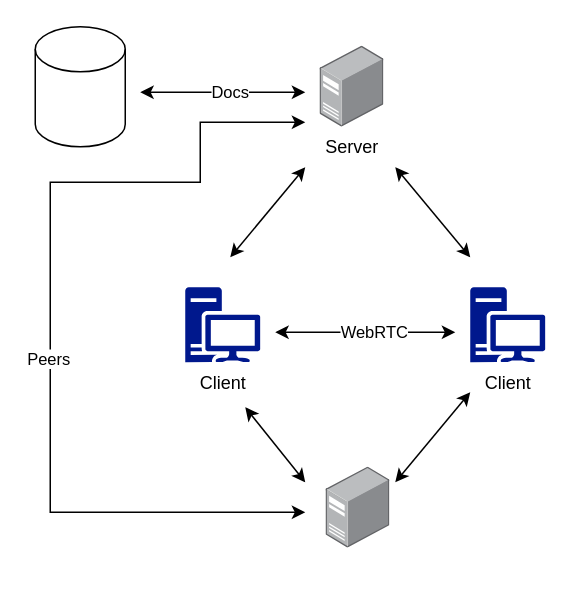
The diagram is 570 pixels wide and 606 high, and some of its shapes have lost their labels. The shapes that lost their labels are listed below. From the top down, each one's box as (x1, y1, x2, y2) in pixels, then its label:
(34, 25, 125, 147): Mongo
(326, 466, 389, 548): PeerJS Signaling Server
